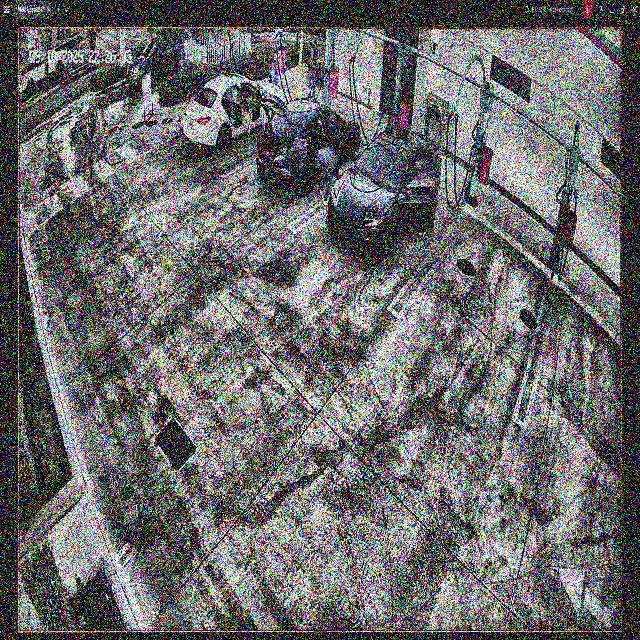Car: (326, 121, 444, 257), (258, 94, 361, 192), (184, 74, 285, 148)
